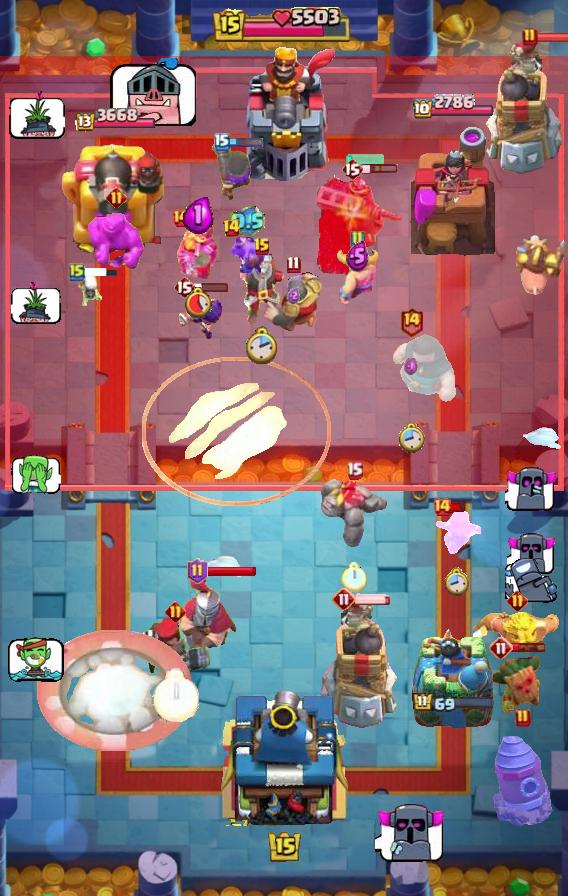bomb-tower: (210, 141, 254, 201)
clock: (213, 7, 355, 45)
electro-spirit: (183, 194, 214, 233), (231, 207, 266, 238), (347, 241, 370, 271), (405, 357, 419, 375), (288, 287, 301, 304)
elixir: (153, 668, 199, 722), (246, 326, 279, 366), (183, 286, 213, 318), (398, 422, 425, 453), (341, 562, 367, 592), (443, 566, 469, 596)
emote: (205, 565, 257, 577), (354, 593, 392, 605), (361, 163, 398, 175), (83, 266, 119, 278), (193, 281, 229, 293), (228, 136, 264, 147), (510, 642, 545, 653), (536, 33, 568, 44), (449, 502, 467, 513)
evolution-symbol: (431, 507, 481, 557)
firecracker: (264, 271, 325, 333)
firecracker-evolution: (175, 218, 221, 280)
freeze: (512, 230, 568, 302)
goblin-ball: (175, 288, 223, 342)
goblin-barrel: (489, 651, 545, 715)
goblin-giant: (335, 248, 379, 304)
goblin-hut: (473, 609, 561, 655)
heal-spirit: (70, 268, 106, 306)
ice-spirit: (345, 153, 385, 165)
ice-wizard: (142, 357, 330, 507)
inferno-tower: (317, 174, 413, 276)
king-tower: (214, 684, 354, 826), (230, 45, 338, 181)
magic-archer: (493, 733, 553, 827)
mortar: (221, 252, 303, 324)
phoenix-small: (137, 617, 213, 677)
queen-tower: (411, 122, 495, 256), (411, 627, 495, 731)
royal-delivery: (228, 233, 266, 275)
royal-hog: (366, 332, 456, 406)
selected: (413, 95, 496, 122), (73, 108, 155, 134), (413, 692, 496, 714)
skeleton: (108, 58, 197, 126), (375, 800, 447, 864), (7, 88, 64, 140), (7, 637, 64, 683), (506, 465, 559, 511), (505, 560, 557, 605), (10, 280, 61, 325), (508, 531, 557, 575), (11, 454, 61, 494)
text: (399, 307, 424, 337), (332, 587, 356, 611), (489, 636, 513, 660), (188, 558, 209, 584), (341, 157, 363, 181), (173, 275, 195, 299), (105, 187, 126, 209), (508, 589, 529, 611), (165, 602, 186, 623), (171, 208, 191, 228), (432, 497, 452, 517), (223, 218, 242, 238), (253, 237, 271, 257), (345, 461, 362, 480), (522, 27, 538, 47), (349, 230, 365, 250), (69, 262, 85, 282), (515, 708, 531, 728), (214, 133, 230, 151), (287, 255, 302, 273)
tornado: (88, 211, 144, 271)
tower-bar: (60, 138, 168, 256)
valkyrie-evolution: (318, 477, 390, 549)
wall-breaker: (37, 628, 194, 751)
wall-breaker-evolution: (179, 571, 239, 651)
zappy: (480, 42, 567, 178), (315, 596, 402, 732)
